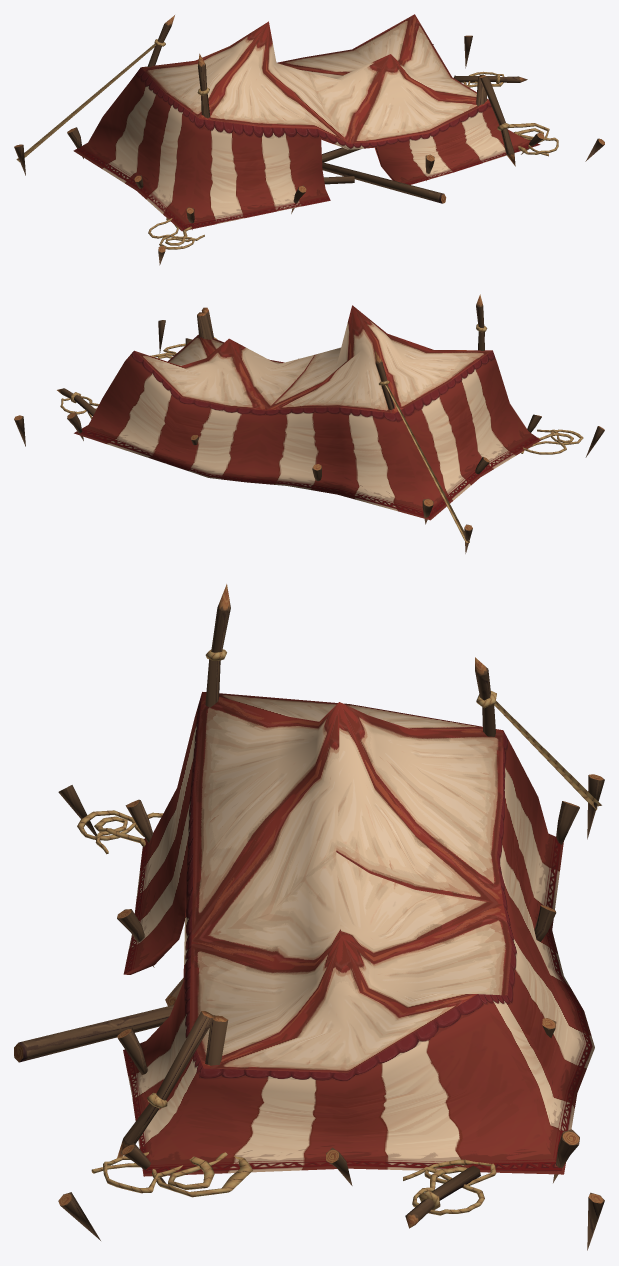
The model's file is SM_PROP_tent_big_broken_battle_02.fbx.
3 views of the same model, one above another, from view 1: azimuth 30°, elevation 25°; view 2: azimuth 150°, elevation 25°; view 3: azimuth 270°, elevation 25° (orthographic). The views are drawn at different scales.
Visible parts, largest first — view 1: SM_PROP_tent_big_broken_battle_02; view 2: SM_PROP_tent_big_broken_battle_02; view 3: SM_PROP_tent_big_broken_battle_02.
Boxes of the visible parts, box(x1,y1,x2,y2) form: SM_PROP_tent_big_broken_battle_02: box(14, 14, 604, 265); SM_PROP_tent_big_broken_battle_02: box(14, 294, 604, 553); SM_PROP_tent_big_broken_battle_02: box(14, 584, 604, 1250).
Size of the model in its own units: 1129 by 401 by 649.
